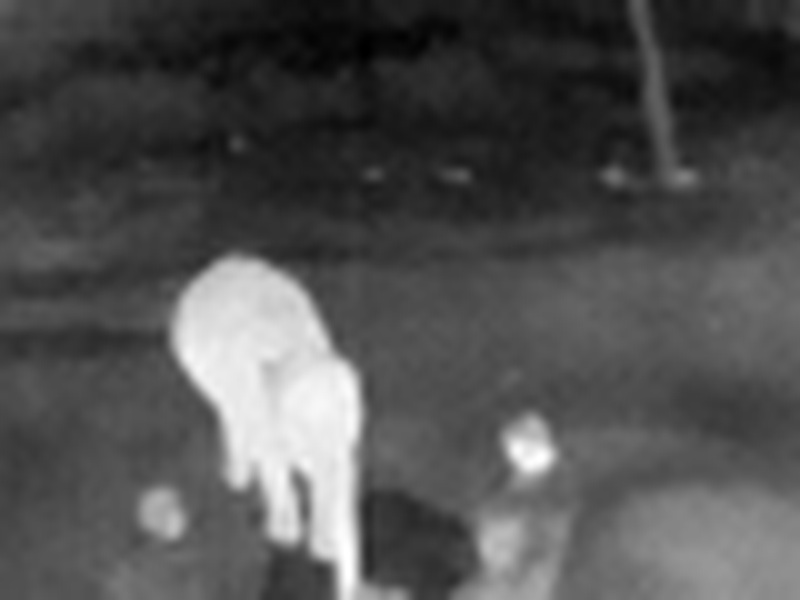elephant: (142, 232, 364, 600)
